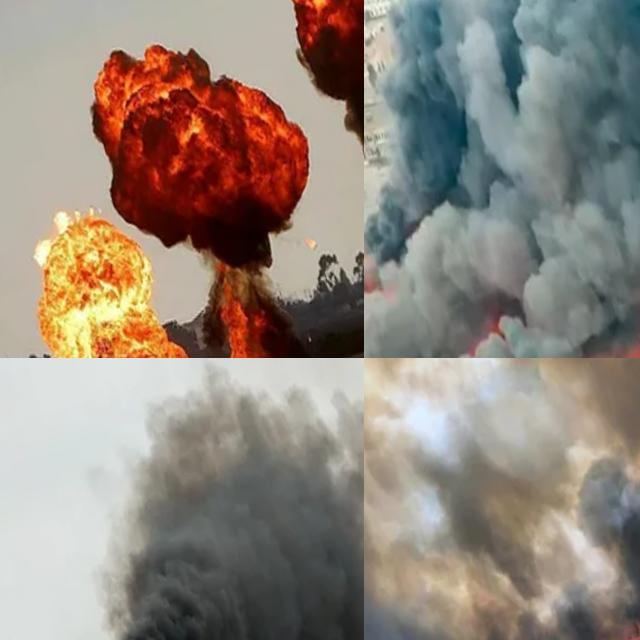smoke: (73, 8, 364, 358), (364, 0, 640, 358), (50, 358, 364, 640), (364, 358, 640, 640), (261, 0, 364, 358)
